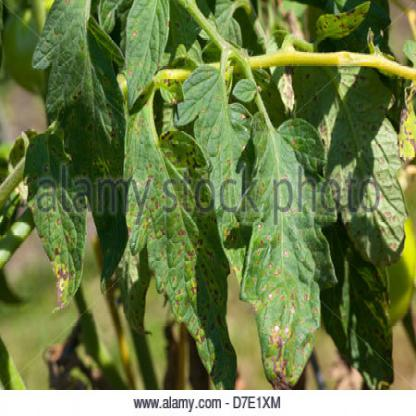tomato septoria leaf spot: (116, 85, 235, 391), (242, 104, 343, 394), (288, 51, 410, 265), (184, 59, 256, 251), (18, 120, 86, 321)
